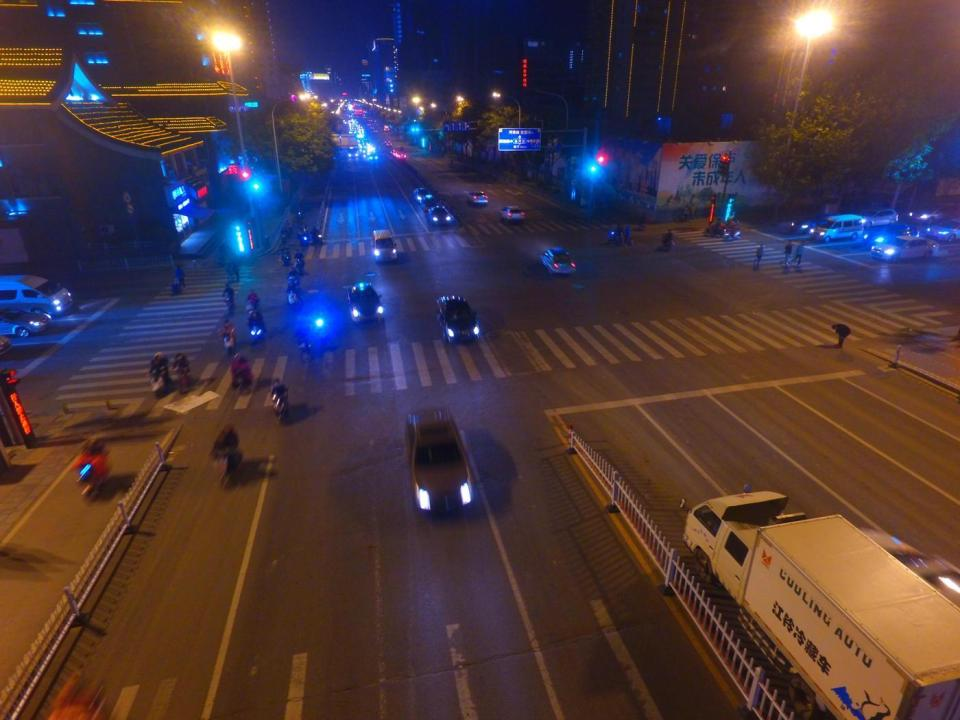bus: (382, 124, 390, 132)
car: (402, 408, 474, 520), (435, 294, 481, 347), (869, 235, 939, 259), (346, 282, 384, 325), (1, 307, 52, 338), (908, 199, 960, 225), (862, 224, 920, 246), (537, 246, 579, 276), (791, 214, 842, 235), (858, 206, 898, 230), (926, 217, 960, 243), (426, 204, 451, 227), (498, 204, 526, 222), (413, 184, 434, 203), (468, 187, 490, 205), (347, 148, 358, 157), (384, 139, 389, 144), (387, 142, 393, 145)
truck: (679, 484, 958, 720)
van: (0, 272, 73, 314), (808, 214, 864, 242), (370, 228, 397, 264)
